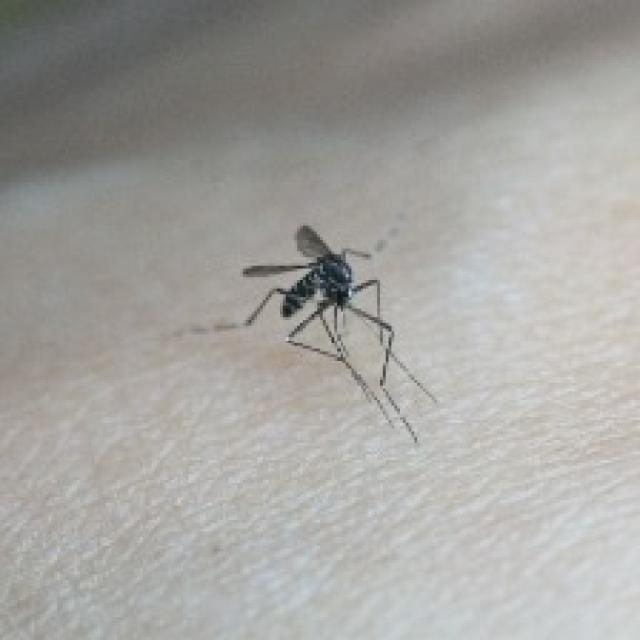aedes: (237, 220, 437, 443)
